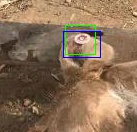text: (65, 25, 95, 54)
